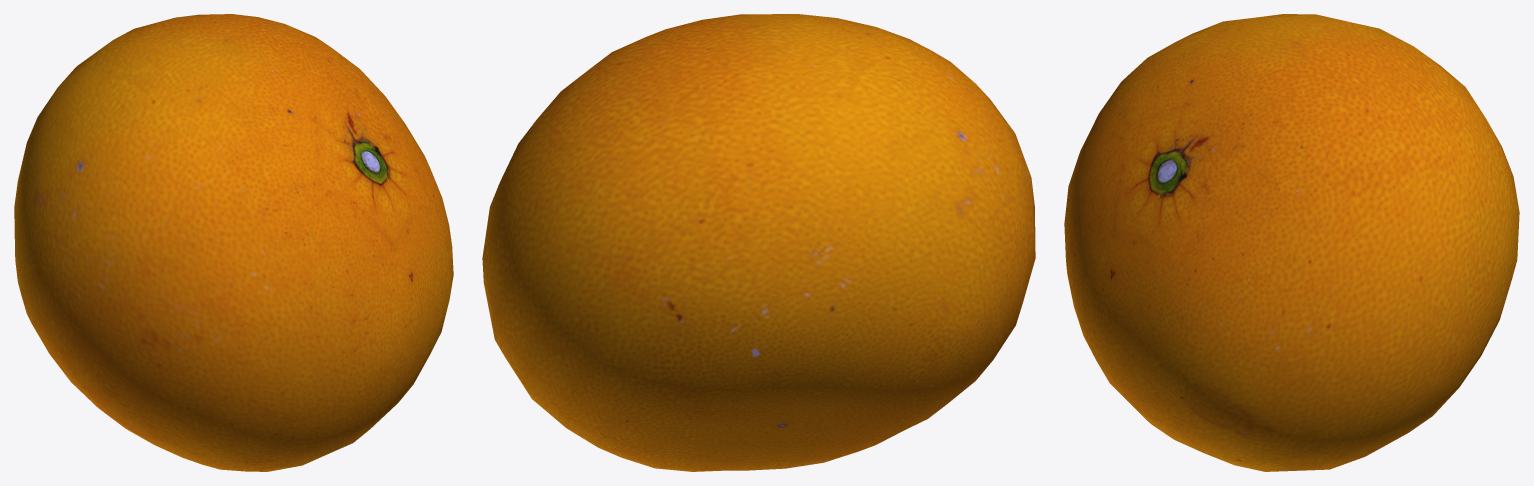
File: OrangeFruitMandarin.fbx
The picture shows the model from 3 angles, left to right: view 1: azimuth 30°, elevation 25°; view 2: azimuth 150°, elevation 25°; view 3: azimuth 270°, elevation 25°; orthographic projection. The views are drawn at different scales.
Visible parts, largest first — view 1: OrangeMandarin; view 2: OrangeMandarin; view 3: OrangeMandarin.
Boxes of the visible parts, x1,y1,x2,y2 form: OrangeMandarin: (14, 14, 453, 471); OrangeMandarin: (482, 14, 1035, 471); OrangeMandarin: (1064, 14, 1519, 471).
Size of the model in its own units: 0.0806 by 0.0785 by 0.0748.
Materials: 1 (1 with a texture image).
